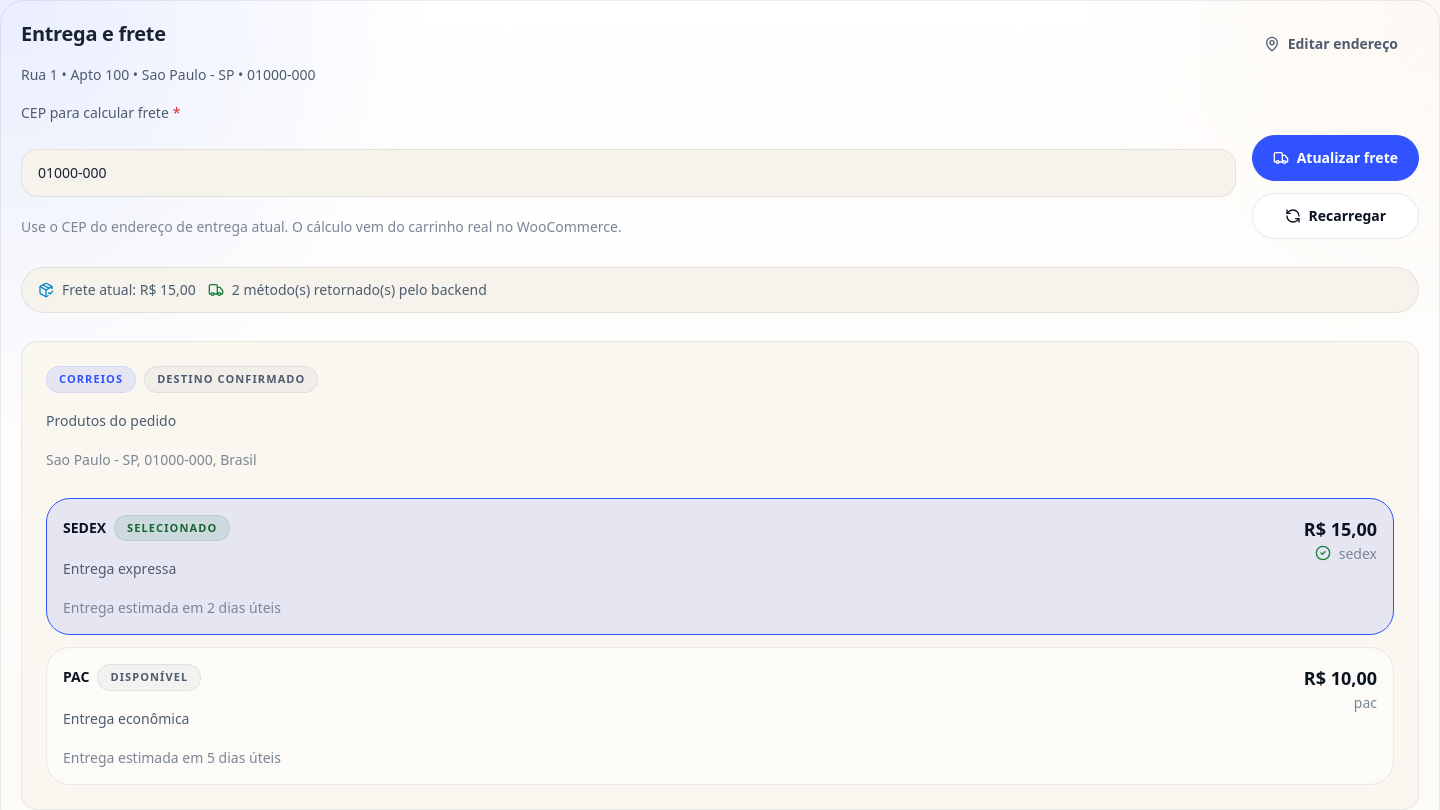
Test: CheckoutShippingSection › persists the selected shipping method and refreshes totals in the UI
The image size is (1440, 810).
Click the radio button with aria-label "PAC R$ 10,00" at (720,716), box left=46, top=647, right=1394, bottom=784
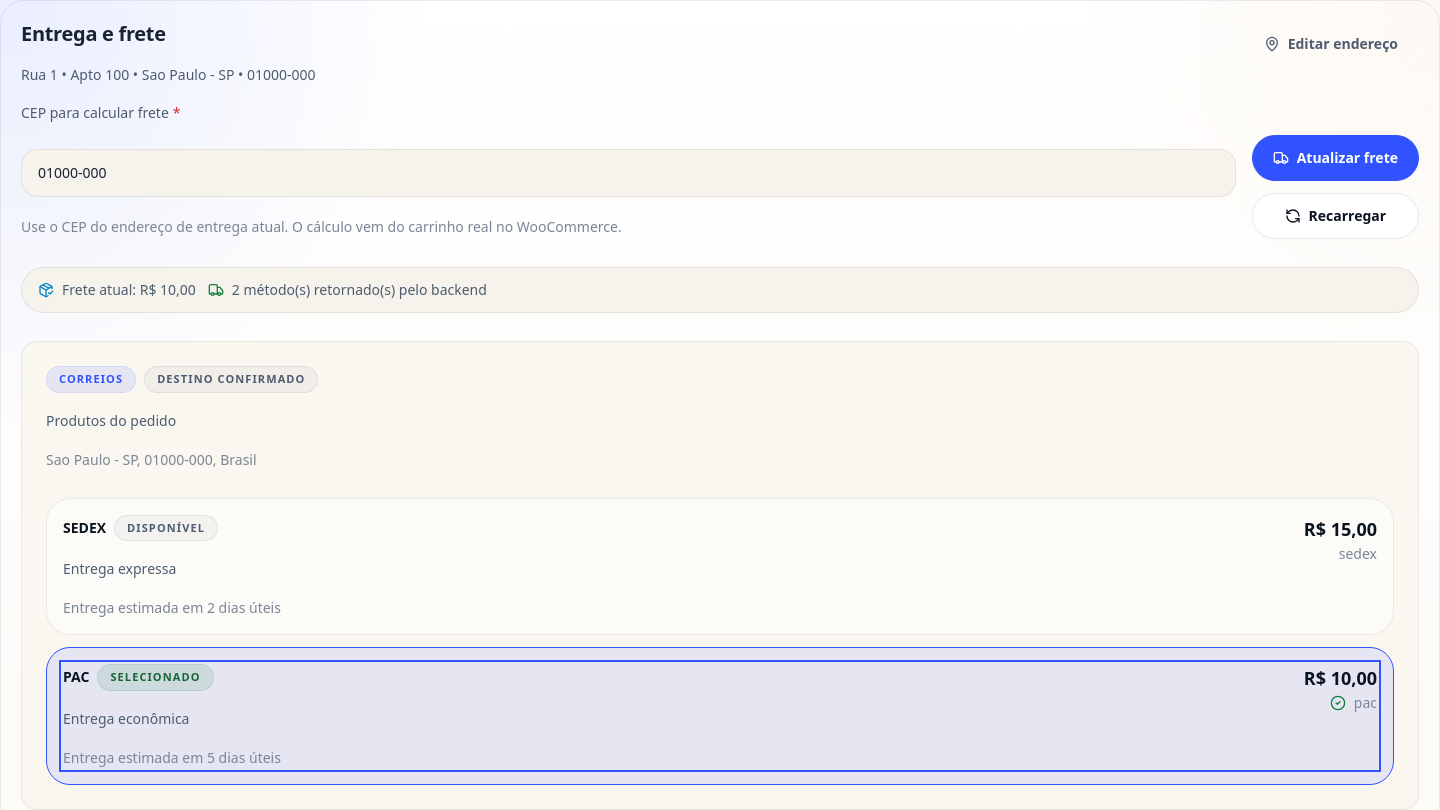
Expected: the radio button with aria-label "PAC R$ 10,00" is checked, left=46, top=647, right=1394, bottom=784
Expected: the text "Frete atual: R$ 10,00" is shown, left=38, top=280, right=196, bottom=300
Expected: the text "Selecionado" is shown, left=97, top=664, right=214, bottom=690
